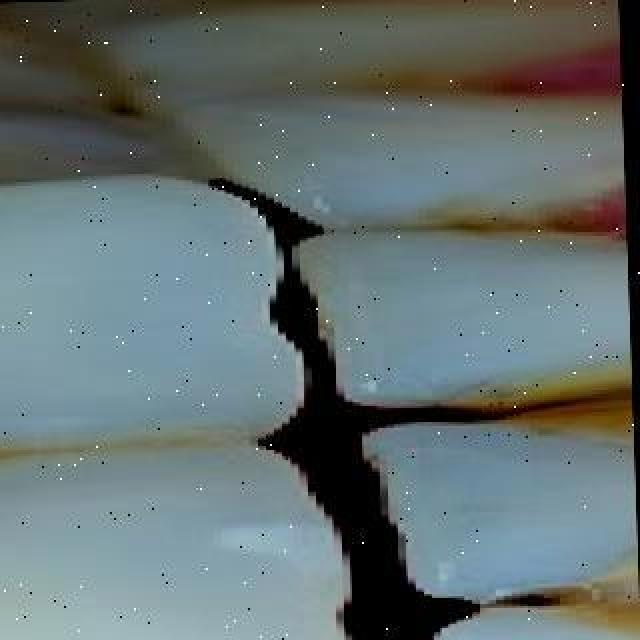spacing: (415, 573, 587, 639), (375, 380, 551, 436)
stains: (490, 378, 640, 502), (433, 180, 603, 260), (378, 62, 562, 110)
